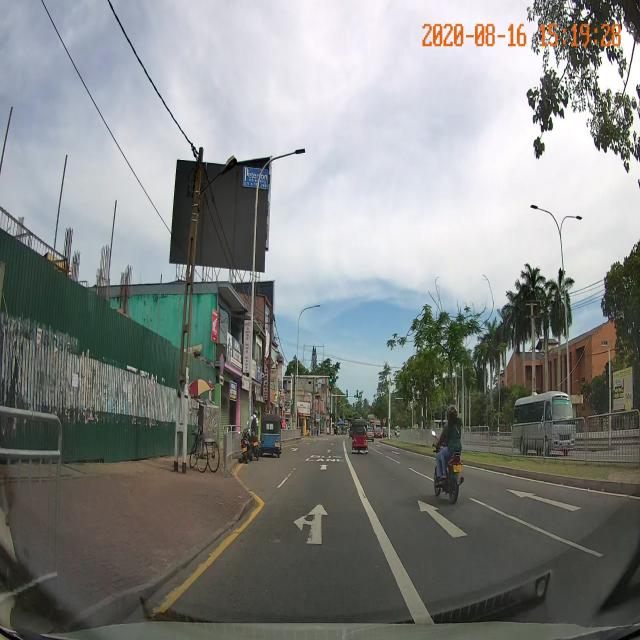forward_lft: (203, 482, 412, 576)
